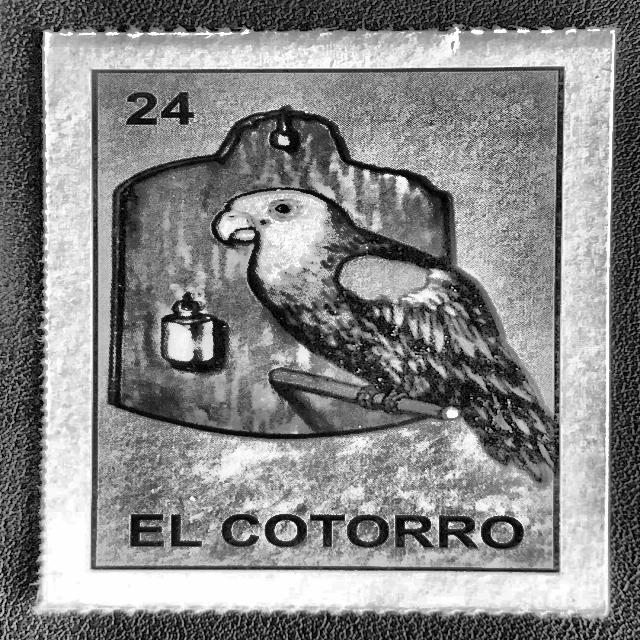El Cotorro: (65, 48, 584, 603)
